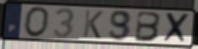3: (52, 7, 77, 40)
9: (107, 9, 134, 42)
B: (133, 10, 163, 43)
K: (82, 9, 105, 40)
O: (23, 5, 52, 39)
X: (161, 11, 192, 45)
